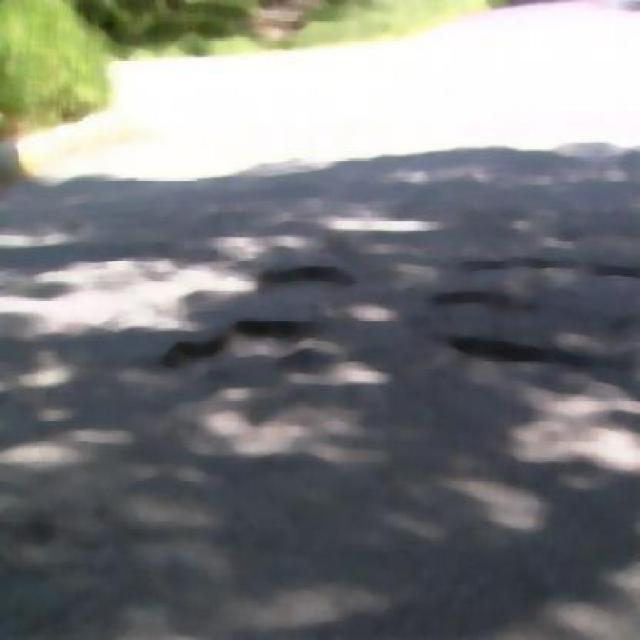pothole: (261, 247, 350, 315)
